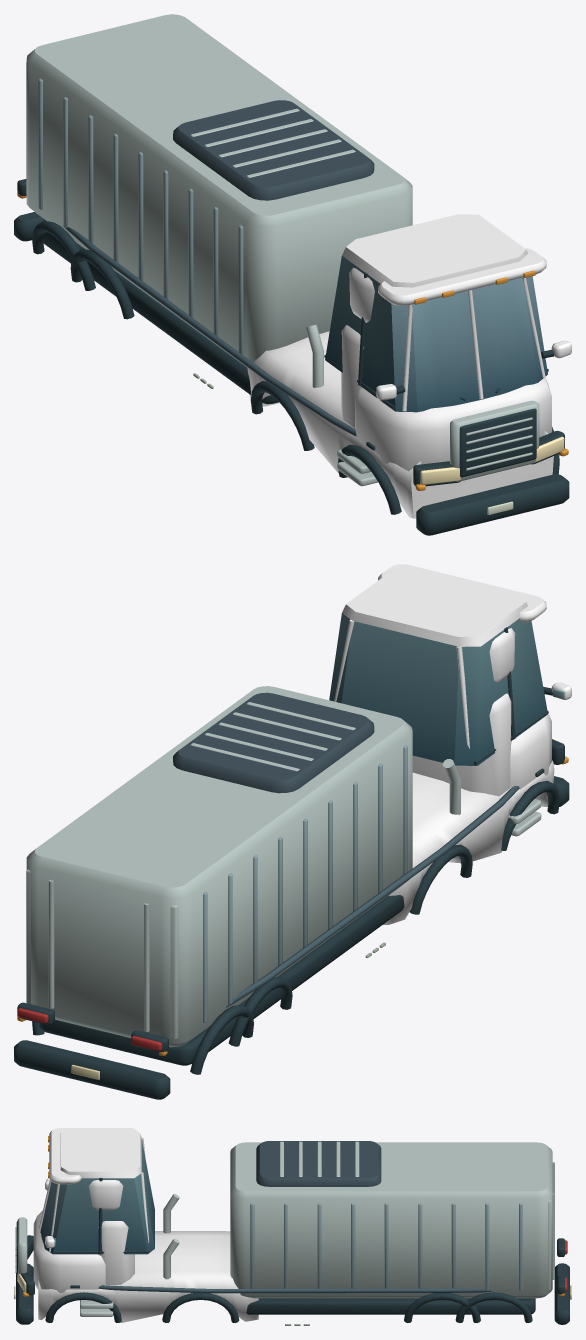
The model's file is cooler.glb.
3 renders of one model, top to bottom at view 1: azimuth 30°, elevation 25°; view 2: azimuth 150°, elevation 25°; view 3: azimuth 270°, elevation 25°, orthographic. The views are drawn at different scales.
Parts seen in each view (by area): view 1: Chassis, Headlamps; view 2: Chassis; view 3: Chassis.
Part boxes in pixels (x1,y1,x2,y2): Chassis: [14, 14, 571, 535]; Headlamps: [420, 436, 564, 484]; Chassis: [14, 564, 571, 1099]; Chassis: [14, 1128, 571, 1325].
Size of the model in its own units: 2.23 by 2.5 by 8.31.
